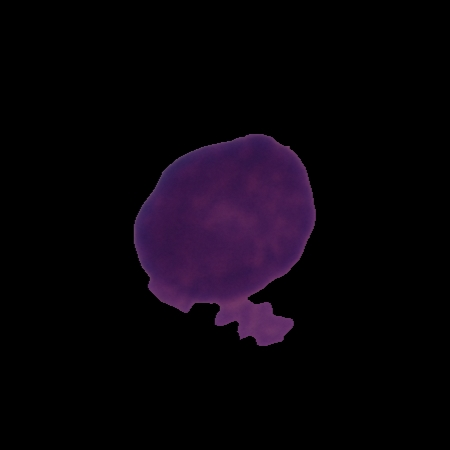HEM: (130, 129, 322, 349)
